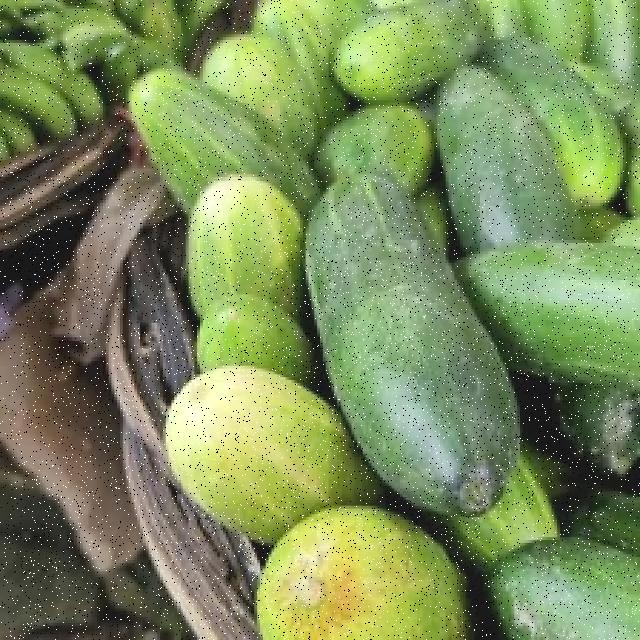Cucumber: (312, 180, 526, 508), (142, 78, 312, 344), (155, 358, 354, 562), (454, 227, 640, 387), (339, 0, 491, 113), (479, 544, 640, 640)
